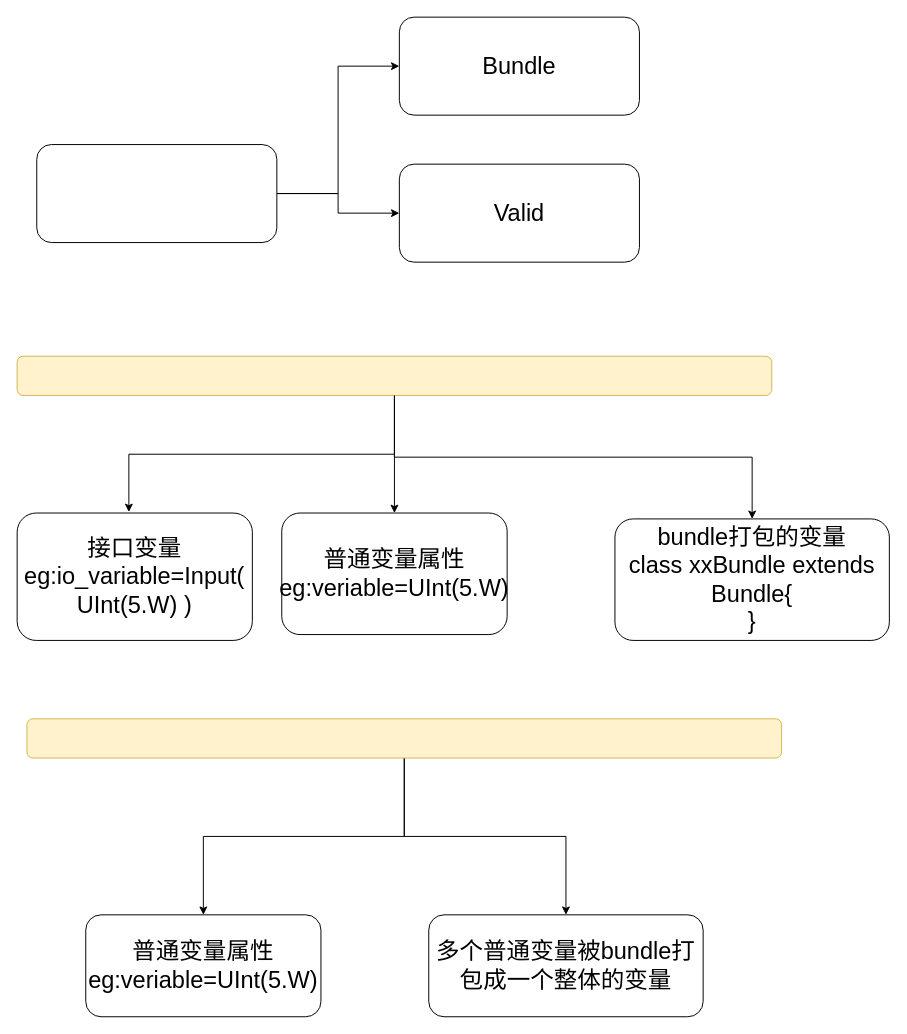
This 907x1034 diagram has some shape labels left out. The shapes that lost their labels are listed below. From the top down, each one's centre as x and y in pixels, then its label:
(156,193): 打包函数有那些
(394,375): Bundle可以打包的变量类型
(404,738): valid可以打包的变量类型
